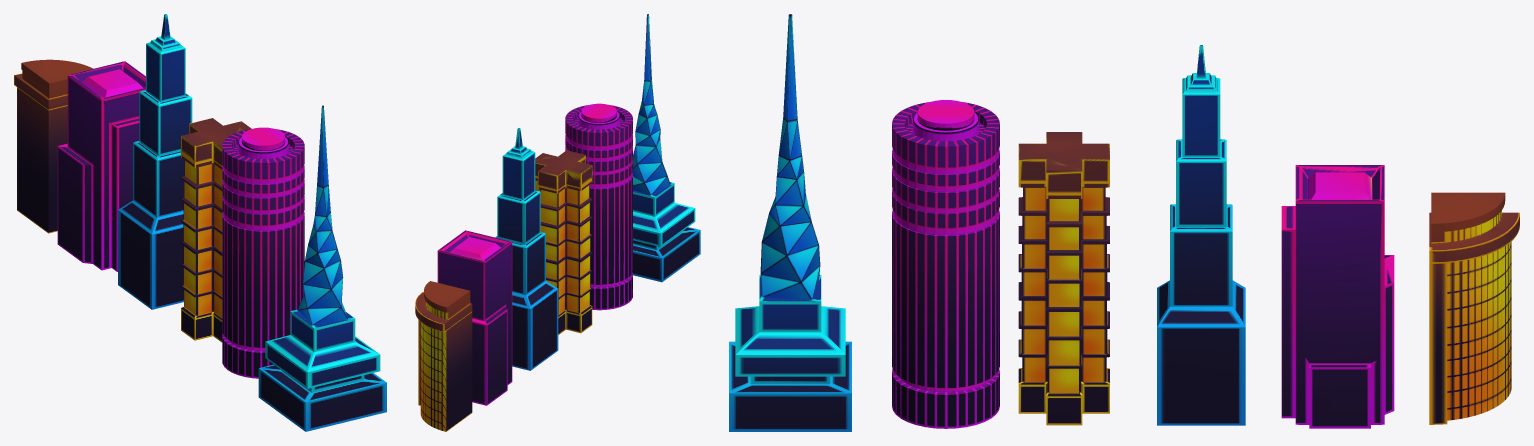
File: TallBuildings.fbx
3 renders of one model, left to right at view 1: azimuth 30°, elevation 25°; view 2: azimuth 150°, elevation 25°; view 3: azimuth 270°, elevation 25°, orthographic. The views are drawn at different scales.
Visible parts, largest first — view 1: TallBuild_Cylinder, TallBuild_Spire, TallBuild_Point, TallBuild_Cube, TallBuild_Cross, TallBuild_Corner; view 2: TallBuild_Cylinder, TallBuild_Point, TallBuild_Cube, TallBuild_Spire, TallBuild_Cross, TallBuild_Corner; view 3: TallBuild_Cylinder, TallBuild_Cube, TallBuild_Cross, TallBuild_Spire, TallBuild_Point, TallBuild_Corner.
Boxes of the visible parts, bbox=[...] form: TallBuild_Cylinder: bbox=[222, 127, 304, 378]; TallBuild_Spire: bbox=[258, 105, 386, 431]; TallBuild_Point: bbox=[118, 14, 192, 309]; TallBuild_Cube: bbox=[57, 61, 145, 271]; TallBuild_Cross: bbox=[181, 118, 251, 342]; TallBuild_Corner: bbox=[14, 59, 92, 233]; TallBuild_Cylinder: bbox=[565, 103, 632, 310]; TallBuild_Point: bbox=[495, 128, 558, 370]; TallBuild_Cube: bbox=[437, 230, 512, 405]; TallBuild_Spire: bbox=[632, 14, 700, 282]; TallBuild_Cross: bbox=[535, 150, 592, 334]; TallBuild_Corner: bbox=[415, 281, 472, 431]; TallBuild_Cylinder: bbox=[892, 100, 999, 428]; TallBuild_Cube: bbox=[1281, 165, 1394, 428]; TallBuild_Cross: bbox=[1018, 132, 1109, 425]; TallBuild_Spire: bbox=[729, 14, 851, 431]; TallBuild_Point: bbox=[1157, 45, 1245, 425]; TallBuild_Corner: bbox=[1429, 192, 1519, 424].
Size of the model in its own units: 26.91 by 94.68 by 173.
1 material, 1 textured.
